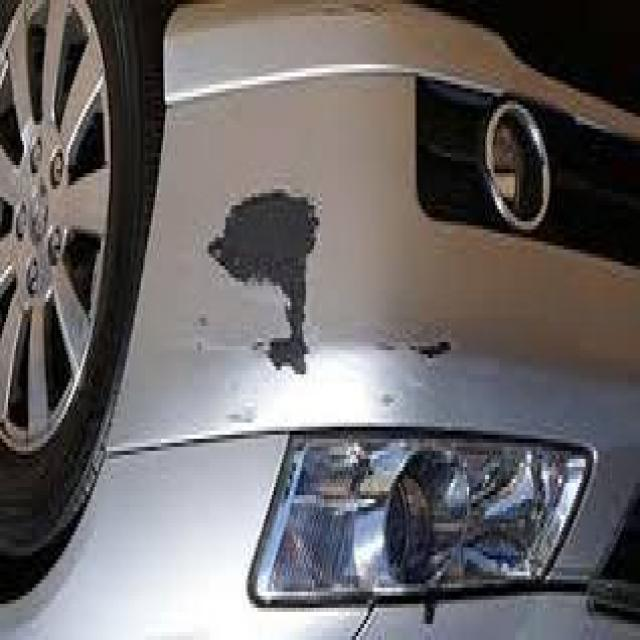scratch: (187, 169, 324, 395), (387, 324, 454, 381)
